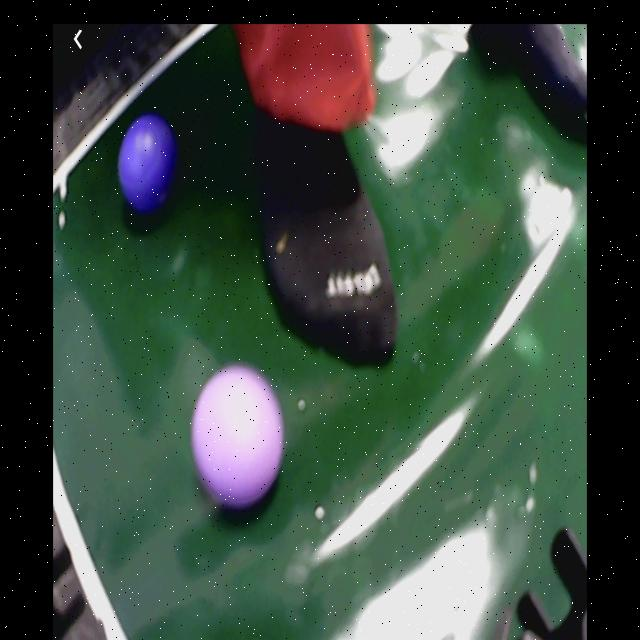ball: (193, 364, 284, 509), (119, 114, 181, 217)
